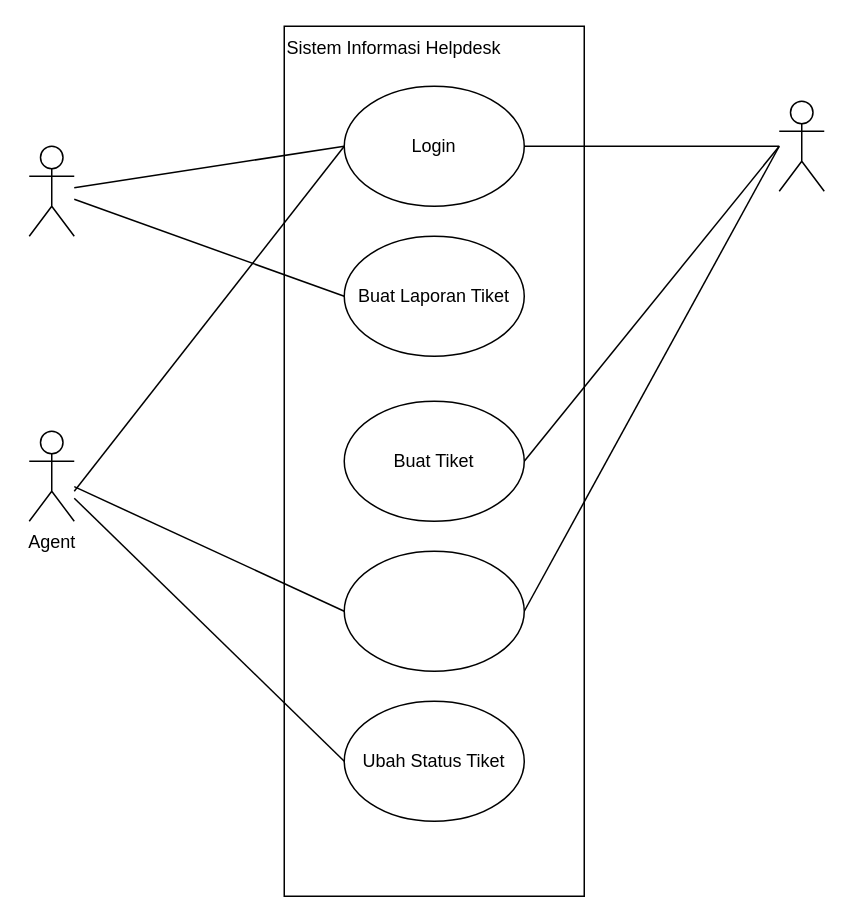
The diagram is 866 pixels wide and 923 high, and some of its shapes have lost their labels. The box of each missing label's shape, as (x1, y1, x2, y2) in pixels:
Admin: (28, 145, 74, 236)
Customer: (778, 100, 824, 191)
Lihat Status Tiket: (343, 550, 524, 671)
